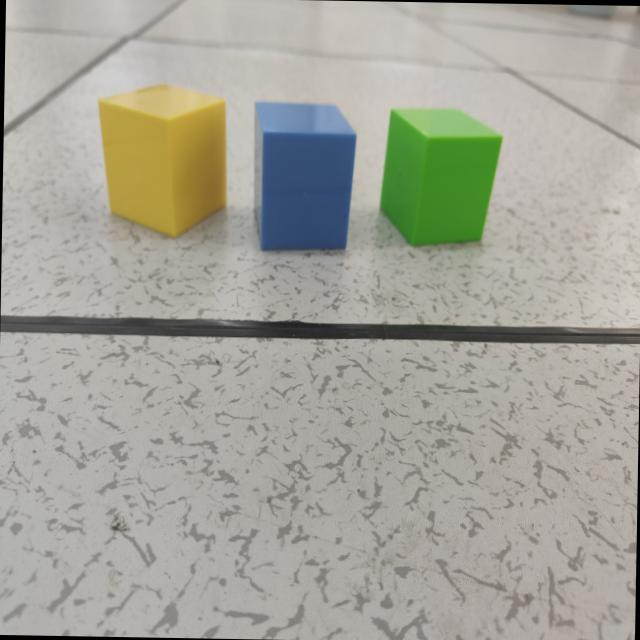blue: (253, 101, 357, 255)
green: (379, 107, 503, 248)
yellow: (97, 85, 228, 239)
